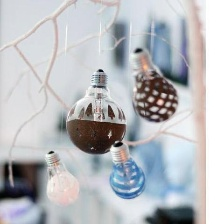light_bulb: (63, 66, 131, 157), (126, 44, 181, 126), (105, 137, 148, 203), (40, 147, 82, 210)
